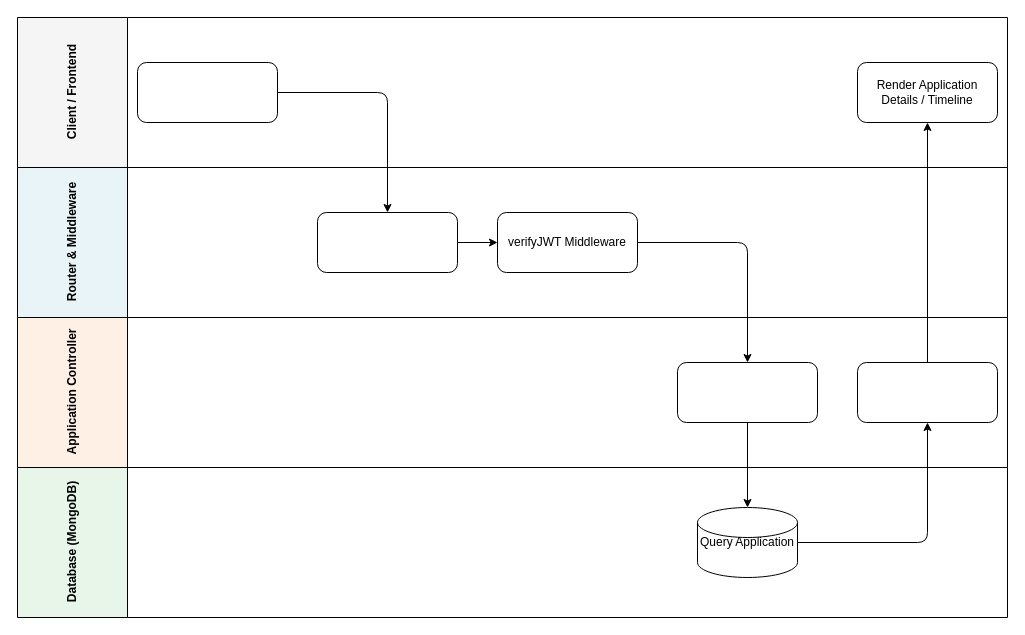
This 1025x635 diagram has some shape labels left out. Here are the shapes that lost their labels. From the top down, the centre of each, then its label:
the point at 207,92: Student Dashboard Mounts
the point at 387,242: GET /applications/me
the point at 747,392: Application.findOne({ user: id })
the point at 927,392: HTTP 200 OK with Application JSON
